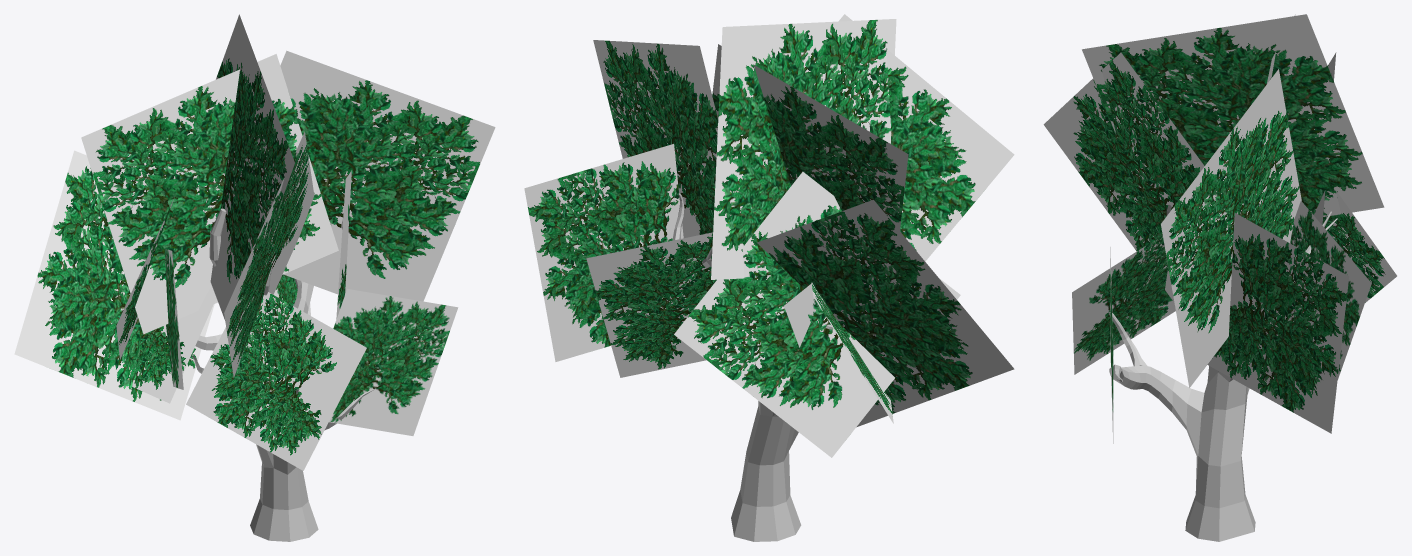
Rendered from low poly tree.FBX.
3 renders of one model, left to right at view 1: azimuth 30°, elevation 25°; view 2: azimuth 150°, elevation 25°; view 3: azimuth 270°, elevation 25°, orthographic. The views are drawn at different scales.
Parts seen in each view (by area): view 1: tree2; view 2: tree2; view 3: tree2.
Boxes of the visible parts, x1,y1,x2,y2 form: tree2: (14,14,495,541); tree2: (524,14,1014,541); tree2: (1043,14,1396,541).
Size of the model in its own units: 23.49 by 25.18 by 15.83.
